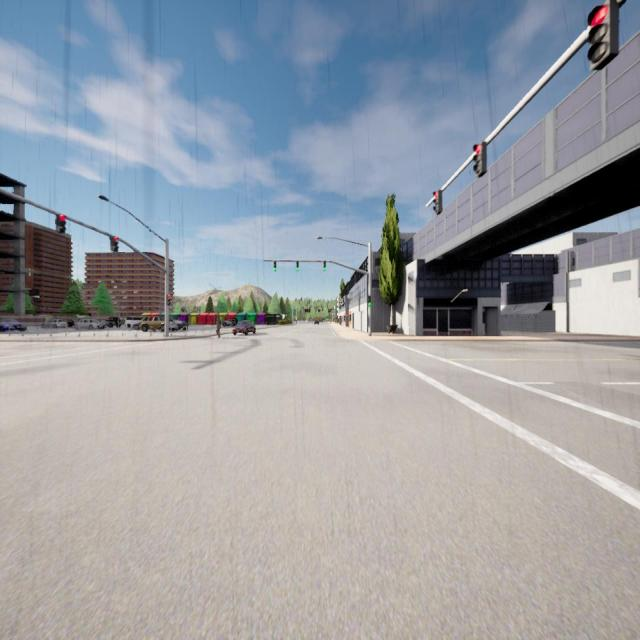Pedestrian: (216, 316, 222, 338)
Vehicle: (160, 318, 188, 332), (0, 318, 27, 332), (233, 320, 256, 336), (140, 316, 162, 332), (75, 319, 104, 331), (41, 318, 68, 329), (125, 316, 141, 328), (105, 317, 122, 328), (223, 318, 237, 327), (133, 322, 141, 331), (68, 320, 74, 328), (314, 320, 319, 325)
traffic_light: (587, 0, 619, 71), (474, 142, 486, 178), (433, 190, 442, 214), (56, 214, 66, 233), (110, 236, 118, 252), (166, 295, 171, 305), (368, 296, 372, 306), (296, 261, 299, 271), (274, 260, 276, 272), (324, 261, 326, 271)
